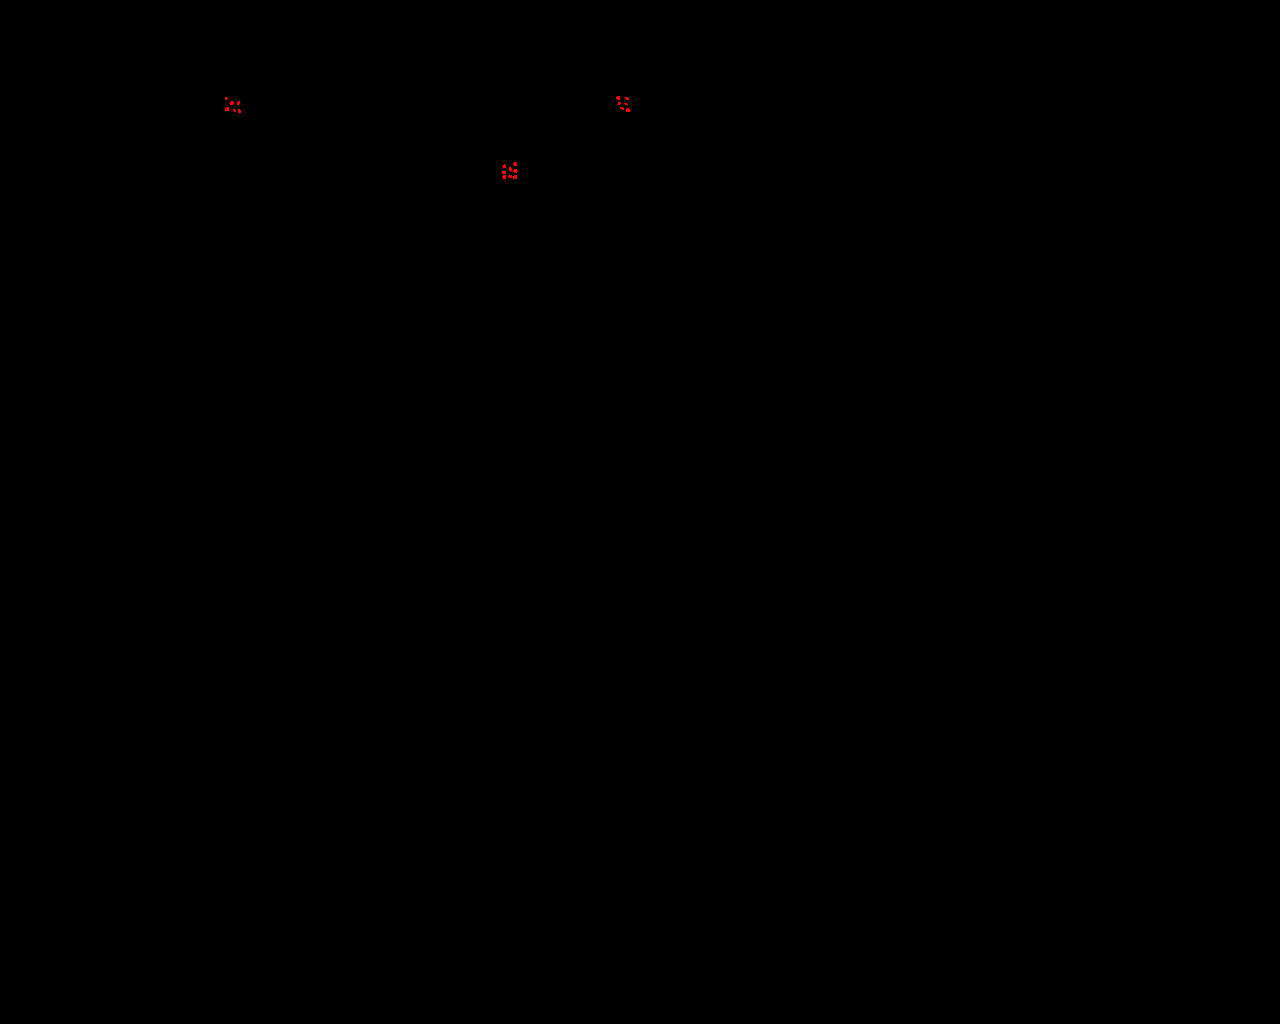Target: (626, 108, 631, 112), (513, 169, 518, 173), (225, 107, 229, 111), (513, 162, 517, 166), (502, 164, 506, 168), (502, 174, 506, 179), (513, 174, 517, 179), (229, 101, 234, 104), (509, 167, 512, 172), (616, 96, 620, 100), (625, 97, 629, 100), (620, 107, 624, 110), (238, 109, 241, 113), (502, 171, 506, 174), (508, 174, 512, 178), (225, 97, 228, 100), (237, 101, 240, 104), (233, 109, 236, 112), (618, 102, 621, 104), (624, 103, 628, 104)
